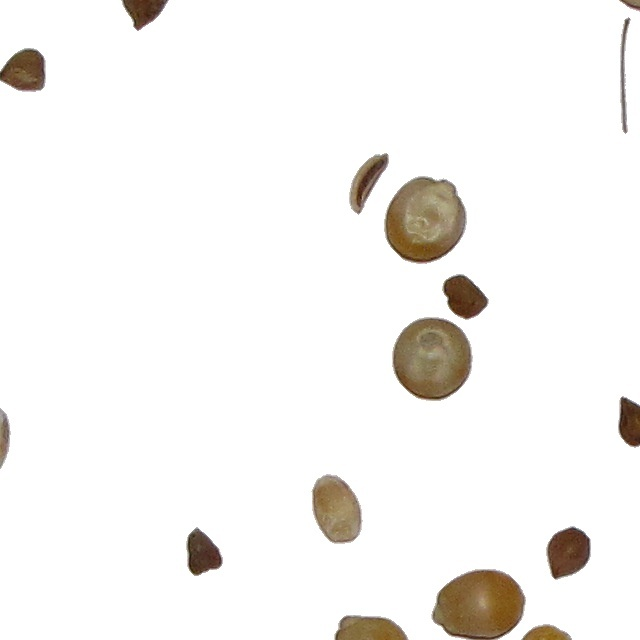buckwheat: (545, 525, 592, 581), (441, 273, 490, 321), (185, 526, 224, 577), (617, 395, 640, 449)
dill: (619, 16, 632, 135)
mais: (383, 175, 468, 265), (391, 316, 474, 402), (430, 568, 527, 640), (333, 614, 413, 640)
other: (310, 473, 364, 545), (348, 152, 390, 216), (515, 623, 574, 640)
